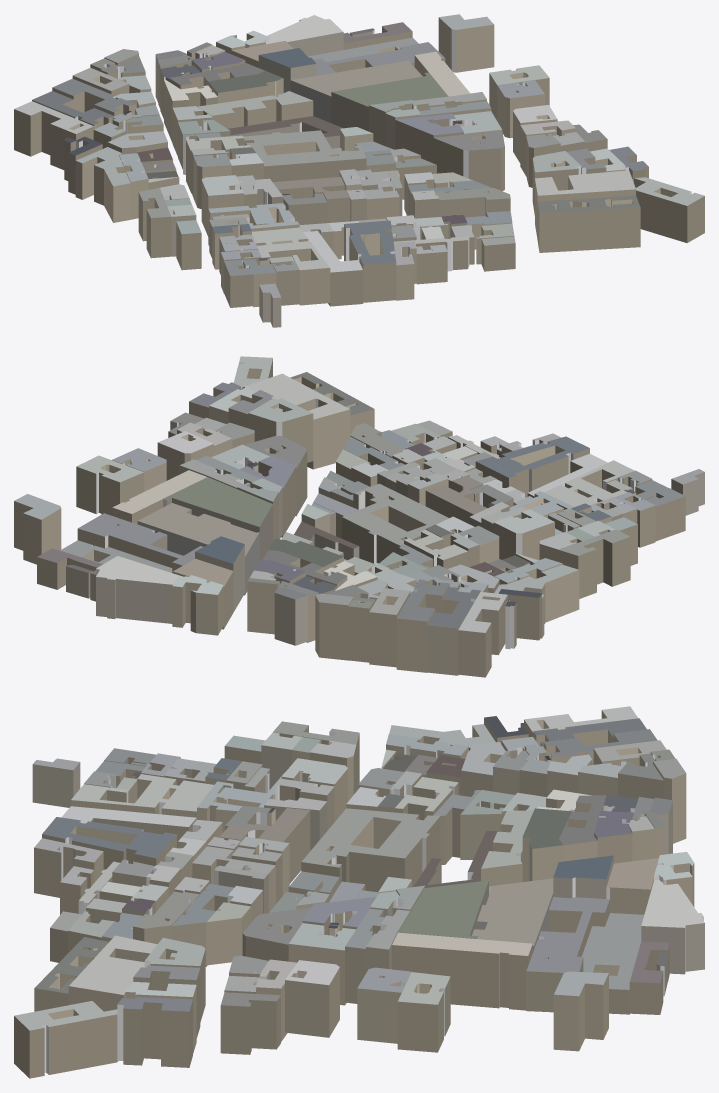
The picture shows the model from 3 angles, top to bottom: view 1: azimuth 30°, elevation 25°; view 2: azimuth 150°, elevation 25°; view 3: azimuth 270°, elevation 25°; orthographic projection. The views are drawn at different scales.
Parts seen in each view (by area): view 1: tuile; view 2: tuile; view 3: tuile.
Boxes of the visible parts, x1,y1,x2,y2 form: tuile: (14,14,704,327); tuile: (14,356,704,677); tuile: (14,706,704,1078).
Size of the model in its own units: 275 by 44.52 by 278.
